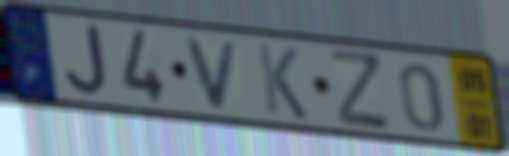0: (395, 61, 449, 134)
4: (120, 27, 169, 107)
J: (62, 23, 109, 99)
K: (254, 40, 310, 123)
V: (183, 36, 243, 113)
Z: (328, 46, 393, 134)
